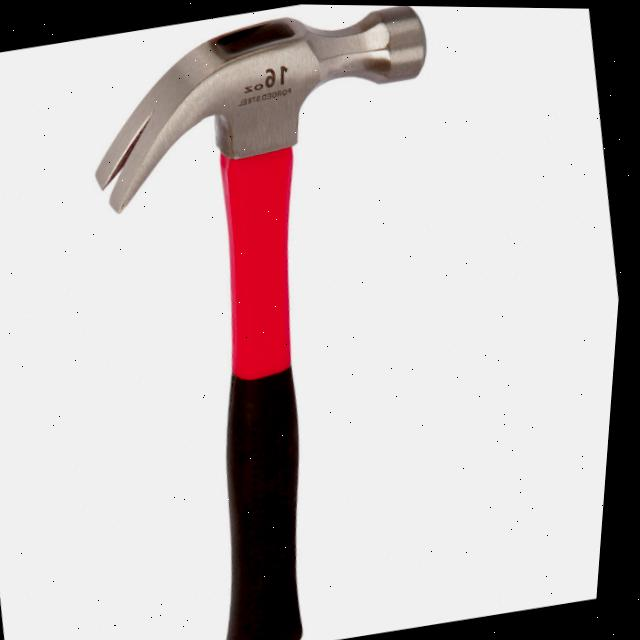hammer: (42, 1, 536, 640)
